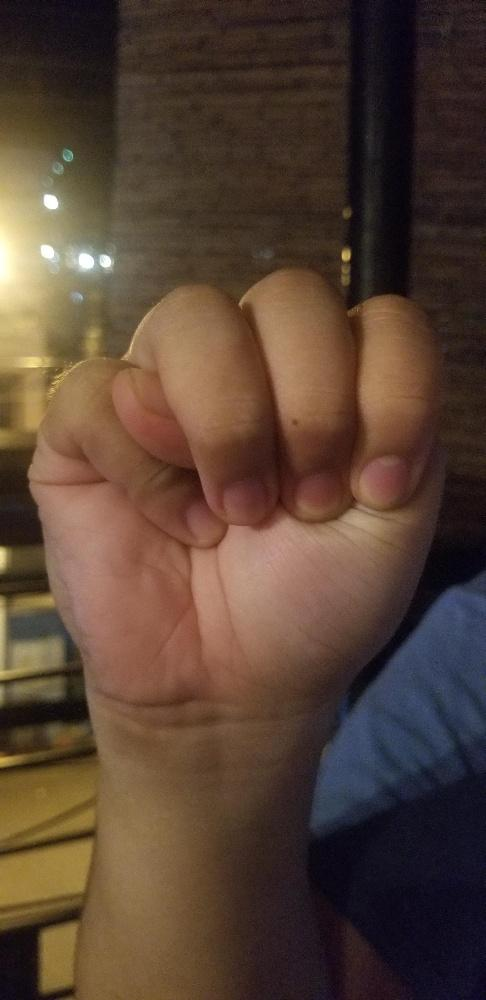m: (29, 262, 451, 692)
